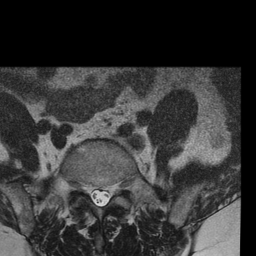CCS_normal: (97, 177, 104, 212)
LFS_normal: (112, 173, 121, 202)
LLS_normal: (104, 177, 112, 208)
RFS_normal: (80, 173, 88, 200)
RLS_normal: (88, 177, 97, 208)
